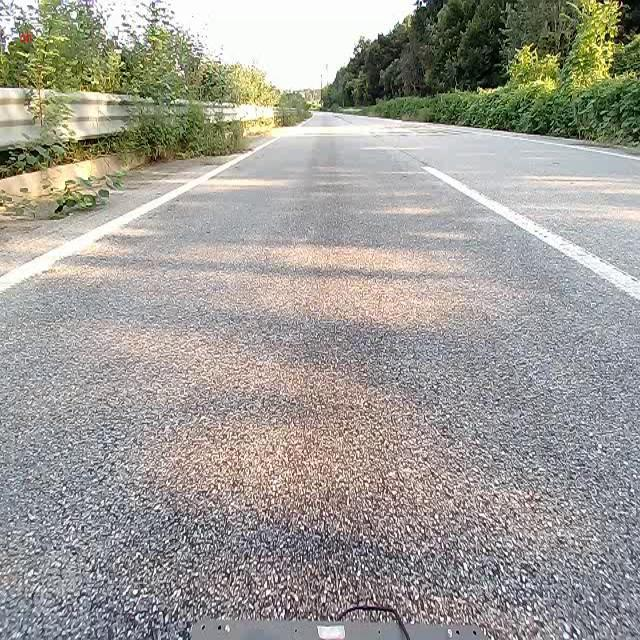Lane: (0, 125, 280, 295), (0, 137, 277, 293), (420, 162, 640, 317), (421, 164, 639, 300)
